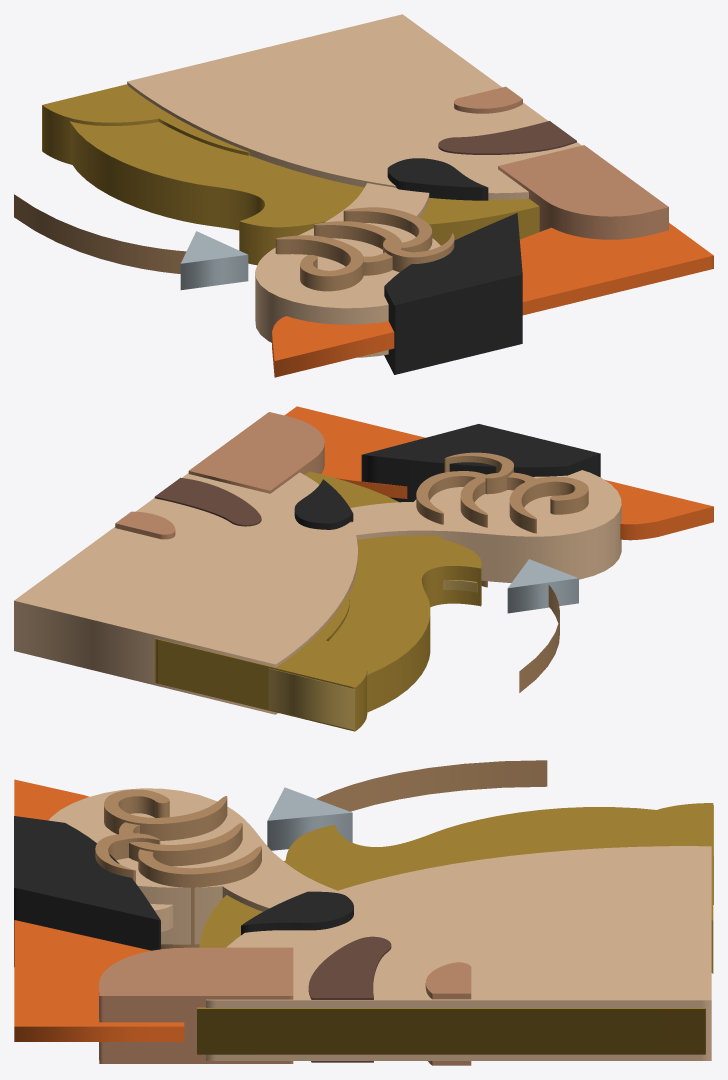
File: emoji_u1f9cf_1f3fc.glb
3 views of the same model, one above another, from view 1: azimuth 30°, elevation 25°; view 2: azimuth 150°, elevation 25°; view 3: azimuth 270°, elevation 25° (orthographic). The views are drawn at different scales.
Visible parts, largest first — view 1: emoji_u1f9cf_1f3fc; view 2: emoji_u1f9cf_1f3fc; view 3: emoji_u1f9cf_1f3fc.
Boxes of the visible parts, box(x1,y1,x2,y2) form: emoji_u1f9cf_1f3fc: box(14, 14, 713, 377); emoji_u1f9cf_1f3fc: box(14, 406, 713, 731); emoji_u1f9cf_1f3fc: box(14, 760, 713, 1065).
Bounding box in the file's own units: 0.0295 × 0.005 × 0.0335.
